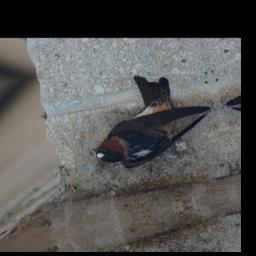Swallow: (75, 62, 223, 178)
